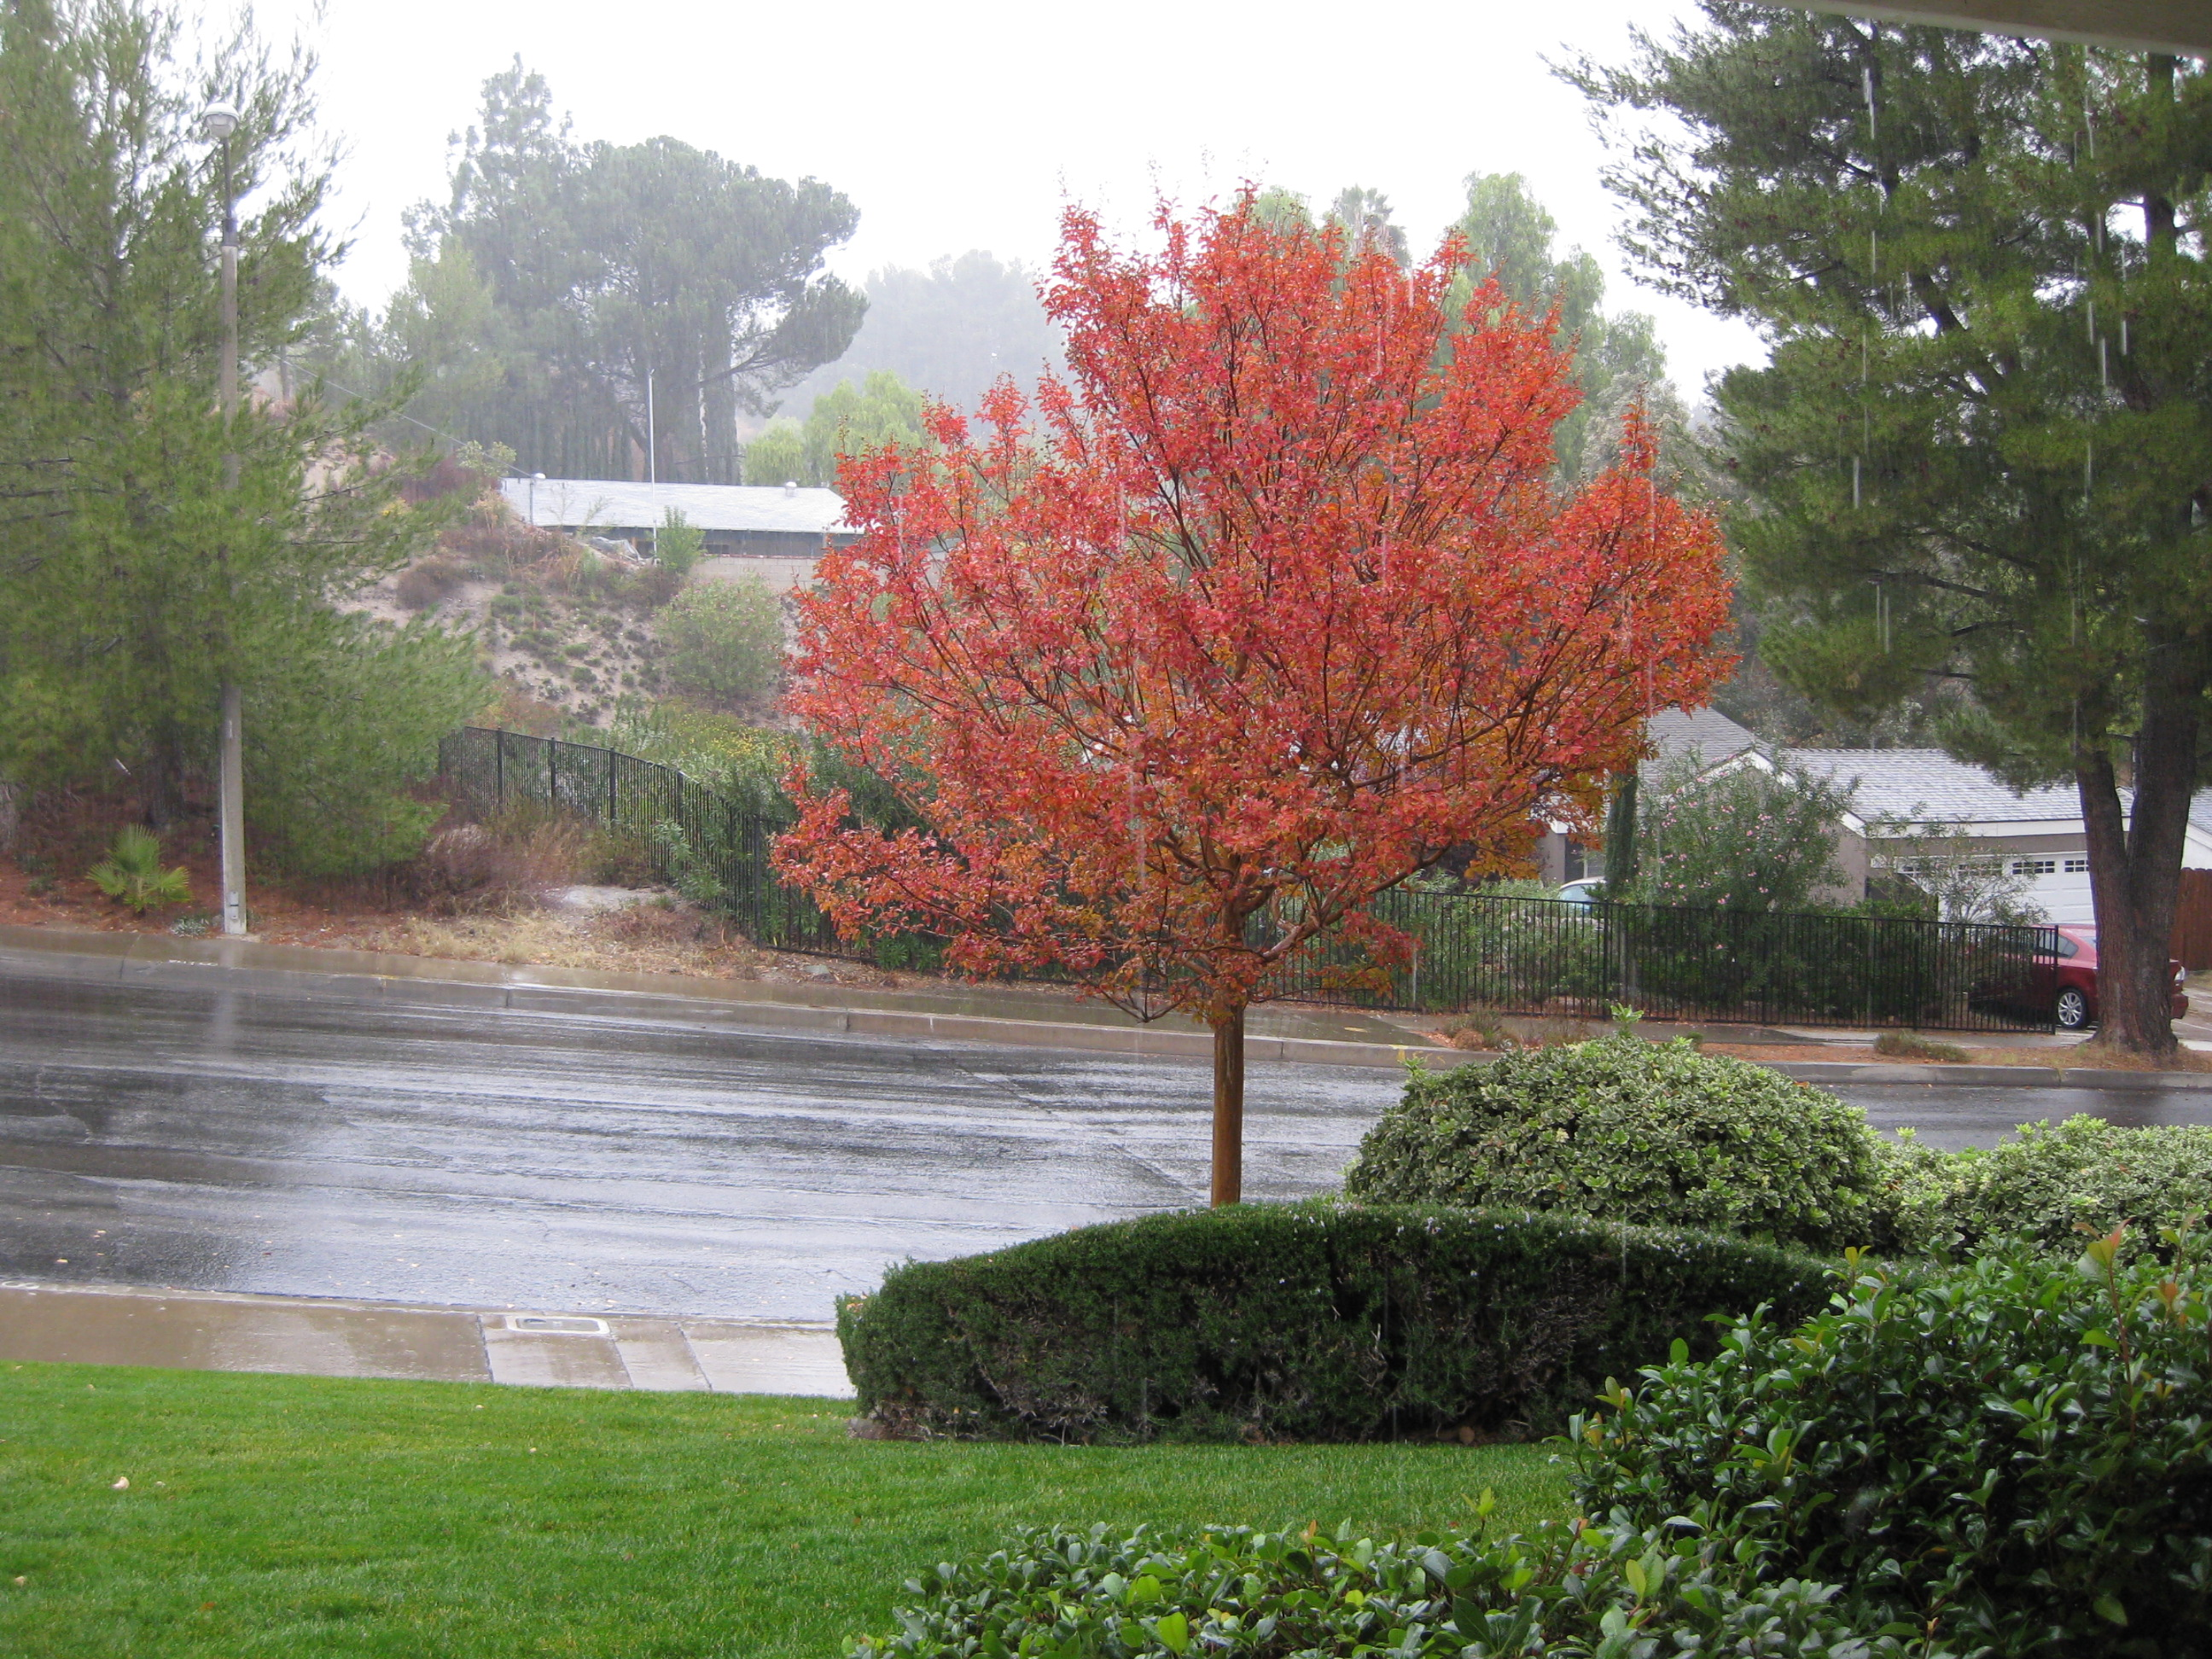bush: (850, 1204, 1923, 1427), (1554, 1274, 2212, 1617), (1357, 1051, 1883, 1265), (1883, 1117, 2212, 1293)
tree: (728, 160, 1716, 1182), (1568, 3, 2212, 1040)
